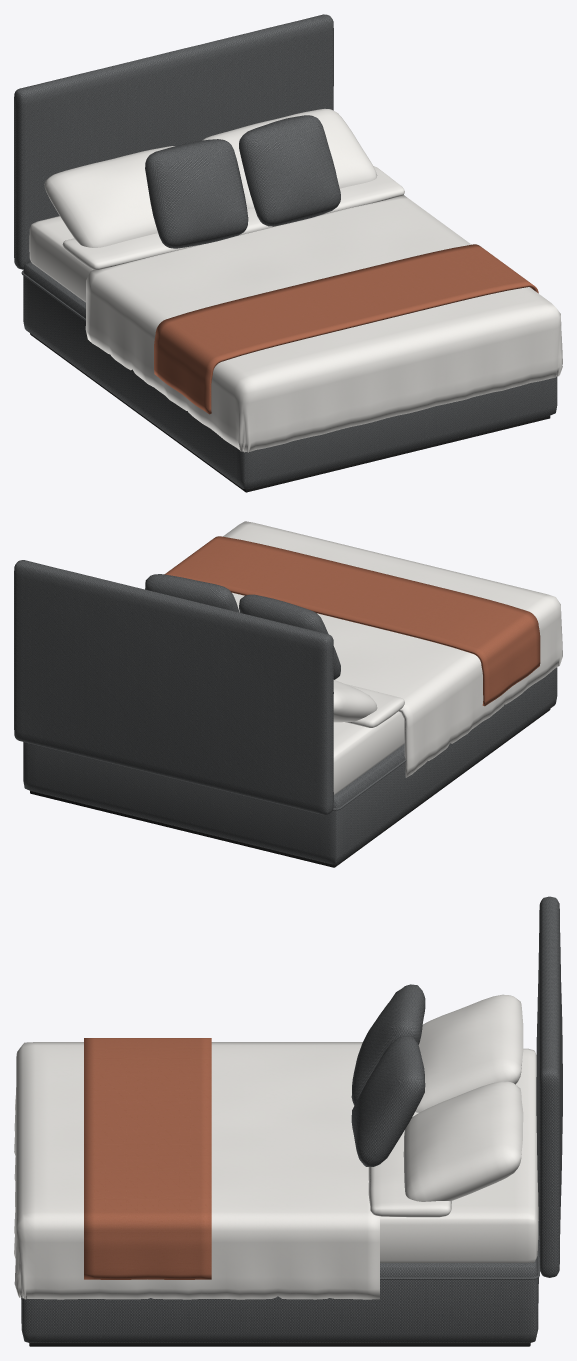
File: canape_160.glb
3 renders of one model, top to bottom at view 1: azimuth 30°, elevation 25°; view 2: azimuth 150°, elevation 25°; view 3: azimuth 270°, elevation 25°, orthographic. The views are drawn at different scales.
Visible parts, largest first — view 1: canape_160; view 2: canape_160; view 3: canape_160.
Part boxes in pixels (x1,y1,x2,y2): canape_160: (14,14,562,492); canape_160: (14,521,562,867); canape_160: (14,896,562,1346).
Size of the model in its own units: 1.75 by 1.21 by 2.15.
Materials: 4 (3 with a texture image).
